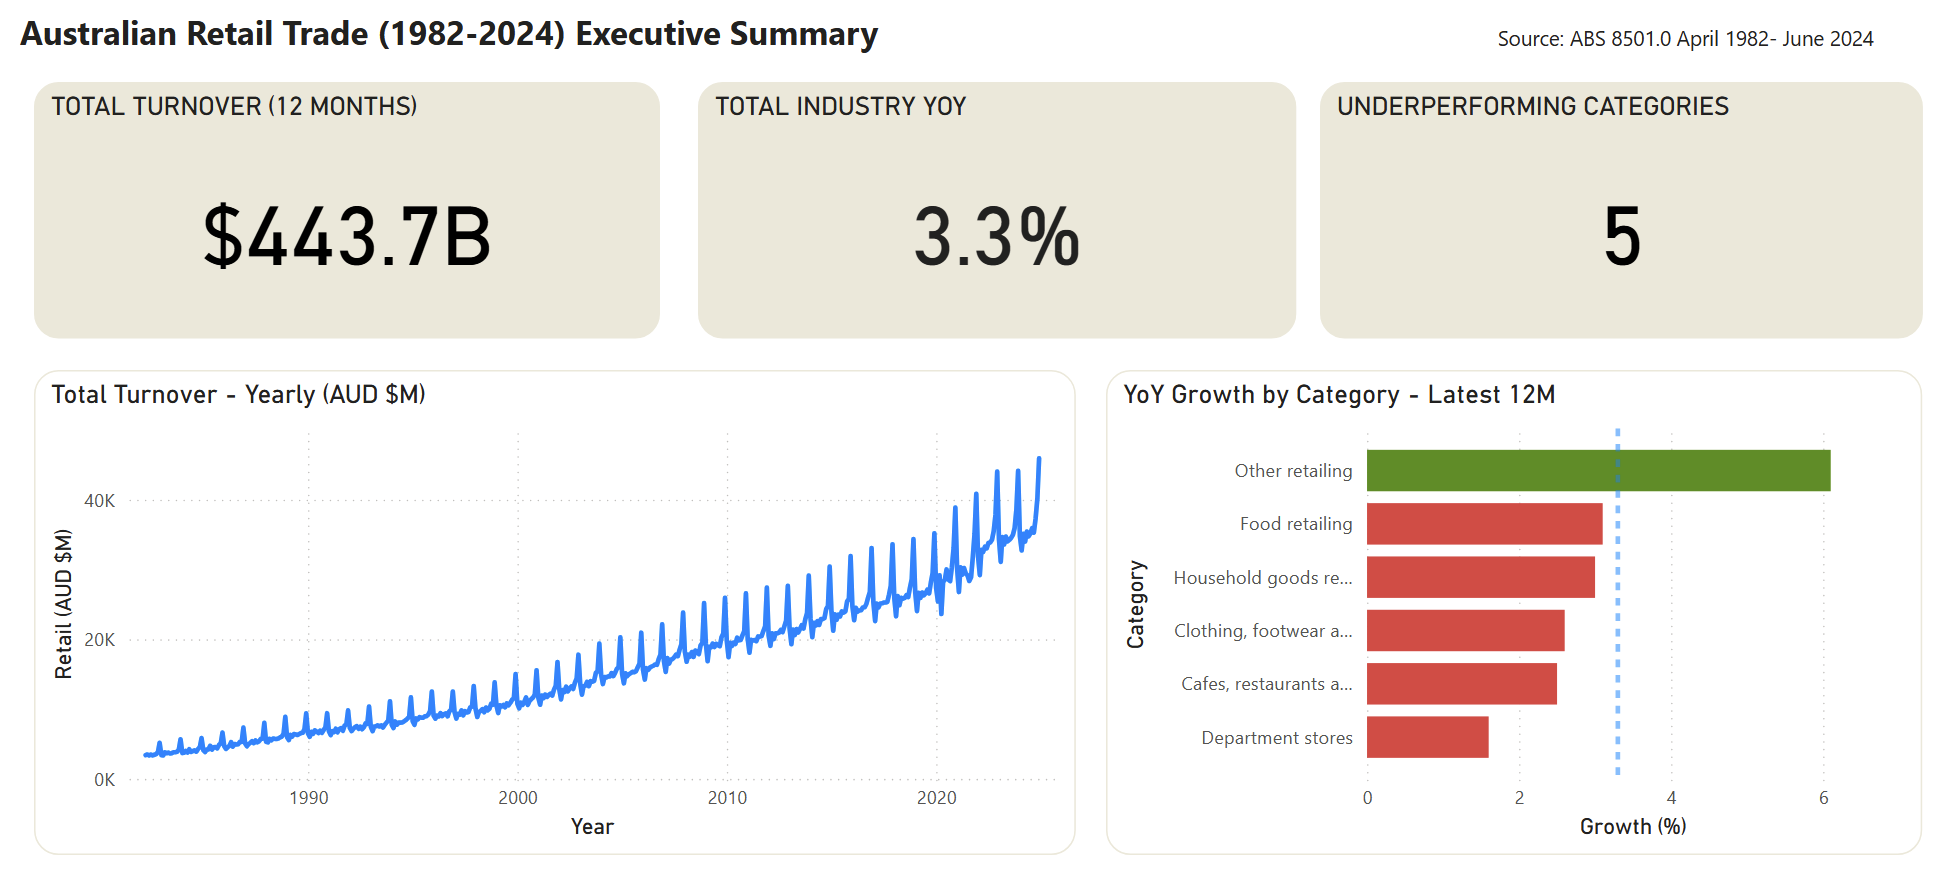

This screenshot's page, from the dashboard's own definition file:
{"tool":"powerbi","page":{"name":"Executive Summary","canvas":[1280,720],"ordinal":0},"visuals":[{"type":"card","title":"TOTAL TURNOVER (12 MONTHS)","fields":{"Values":["retail_benchmark.Total Turnover (R12M)"]},"box":[33.3,63.3,406.7,166.7],"z":0},{"type":"card","title":"TOTAL INDUSTRY YOY","fields":{"Values":["retail_benchmark.Total Industry YoY %"]},"box":[465,63.3,388.3,166.7],"z":1000},{"type":"card","title":"UNDERPERFORMING CATEGORIES","fields":{"Values":["retail_benchmark.Count Uderperforming"]},"box":[868.3,63.3,391.7,166.7],"z":2000},{"type":"lineChart","title":"Total Turnover - Yearly (AUD $M)","fields":{"Category":["retail_clean.date.Variation.Date Hierarchy.Year"],"Y":["Avg(retail_clean.turnover_m)"]},"box":[33.3,250,676.7,315],"z":3000},{"type":"barChart","title":"YoY Growth by Category - Latest 12M","fields":{"Category":["retail_category_ranking.category"],"Y":["Avg(retail_category_ranking.yoy_growth_pct)"]},"box":[730,250,530,315],"z":4000},{"type":"textbox","box":[979.3,20.7,280.7,33.3],"z":5000},{"type":"textbox","box":[20,11.7,595,51.7],"z":6000}]}

Visuals, with their boxes on the page's 1280x720 design canvas (x1, y1, x2, y2). These are canvas units, not pixel positions in the 1946x876 screenshot, which may show the page scaled, cropped or inside an application window:
"TOTAL TURNOVER (12 MONTHS)" card: [x1=33, y1=63, x2=440, y2=230]
"TOTAL INDUSTRY YOY" card: [x1=465, y1=63, x2=853, y2=230]
"UNDERPERFORMING CATEGORIES" card: [x1=868, y1=63, x2=1260, y2=230]
"Total Turnover - Yearly (AUD $M)" lineChart: [x1=33, y1=250, x2=710, y2=565]
"YoY Growth by Category - Latest 12M" barChart: [x1=730, y1=250, x2=1260, y2=565]
textbox: [x1=979, y1=21, x2=1260, y2=54]
textbox: [x1=20, y1=12, x2=615, y2=63]
